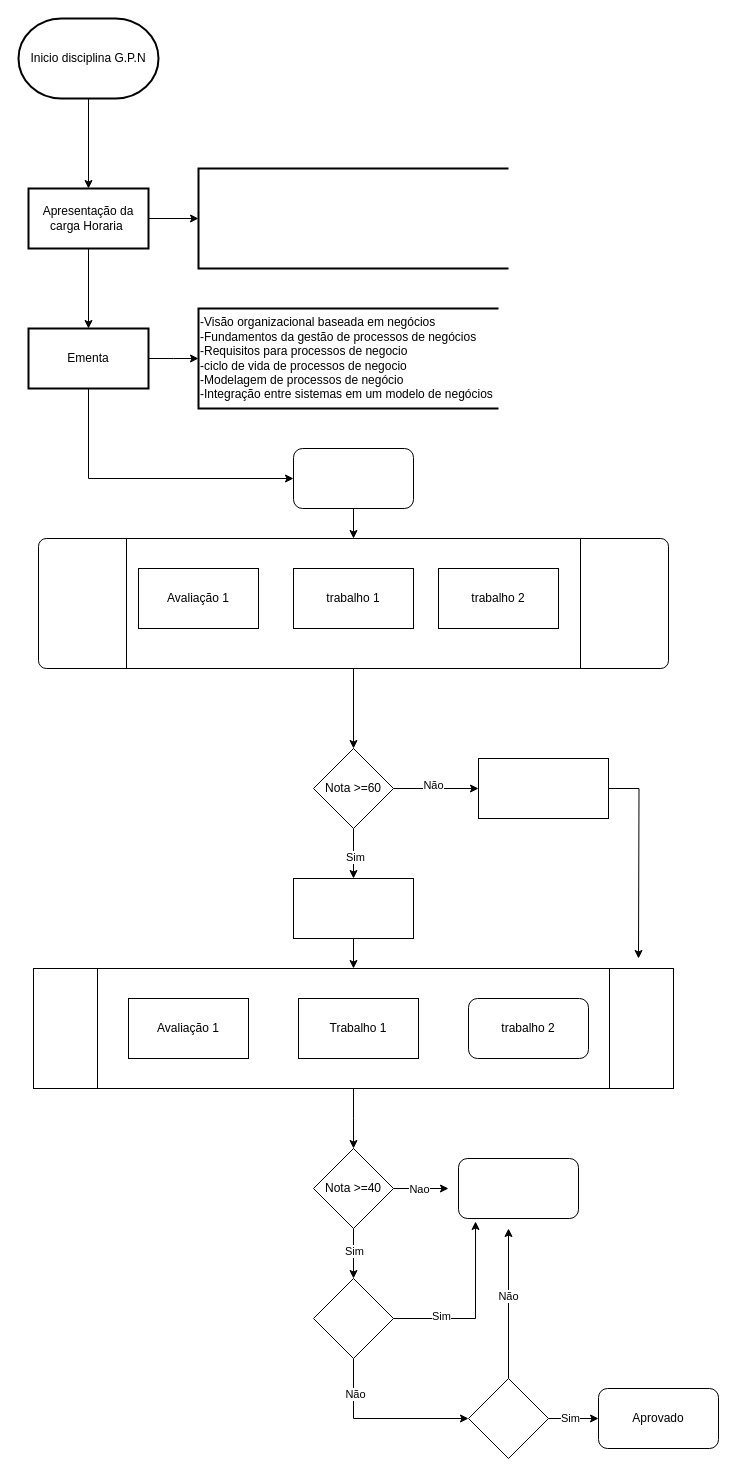
The diagram is 736 pixels wide and 1476 high, and some of its shapes have lost their labels. The centre of each missing label's shape, as x and y in pixels:
"-Teórica = 16h:40 (20aulas) -Pratica = 16h:40 (20aulas)" goes at (x=353, y=218).
"Freq < 75%" goes at (x=353, y=1318).
"Modulo 1" goes at (x=353, y=478).
"Modulo 2" goes at (x=353, y=908).
"Nota >= 60" goes at (x=508, y=1418).
"Recuperação paralela" goes at (x=543, y=788).
"Reprovado" goes at (x=518, y=1188).
